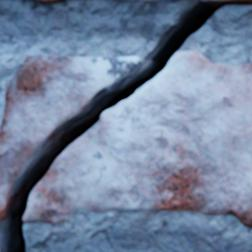brick: (203, 0, 251, 2), (33, 0, 60, 3), (124, 0, 157, 1)
broken_brick: (23, 50, 251, 226), (0, 55, 143, 220)
crack: (0, 0, 251, 251)
